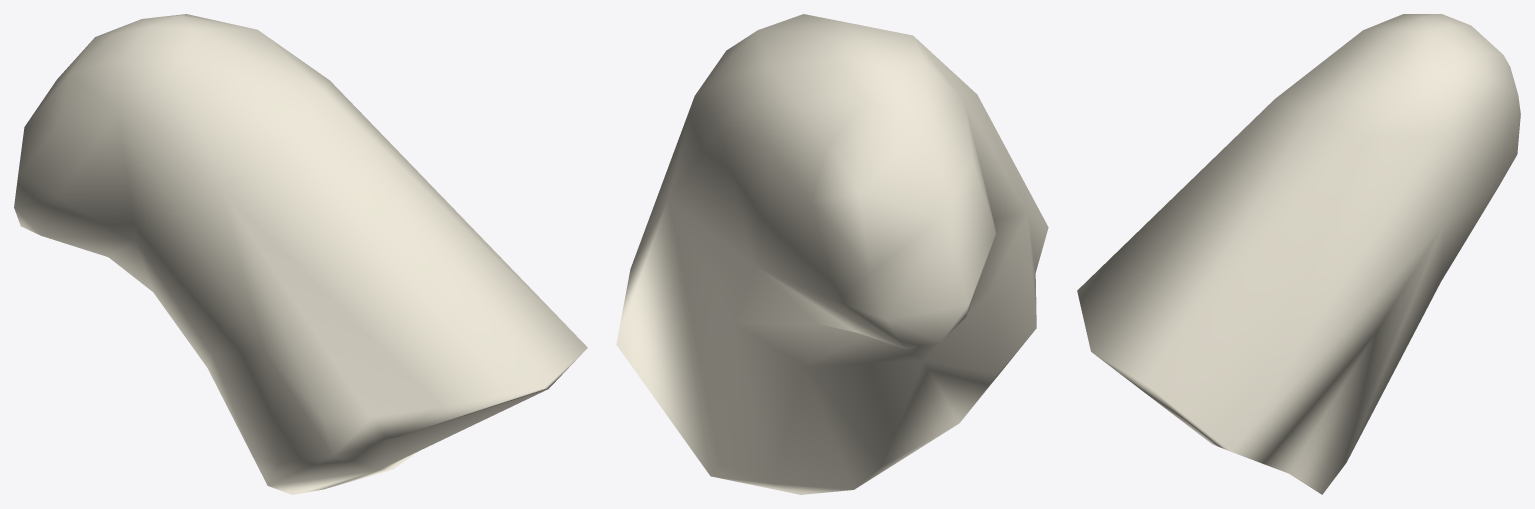
3 renders of one model, left to right at view 1: azimuth 30°, elevation 25°; view 2: azimuth 150°, elevation 25°; view 3: azimuth 270°, elevation 25°, orthographic. The views are drawn at different scales.
Parts seen in each view (by area): view 1: ZA_c6d76b5a1f26b150; view 2: ZA_c6d76b5a1f26b150; view 3: ZA_c6d76b5a1f26b150.
Part boxes in pixels (box(x1,y1,x2,y2)): ZA_c6d76b5a1f26b150: box(14, 14, 587, 494); ZA_c6d76b5a1f26b150: box(616, 14, 1048, 494); ZA_c6d76b5a1f26b150: box(1077, 14, 1520, 494).
Size of the model in its own units: 0.00151 by 0.00156 by 0.00158.
